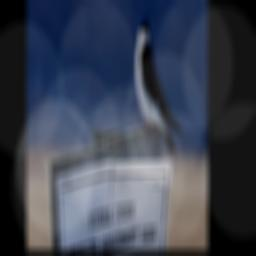Swallow: (135, 12, 181, 154)
